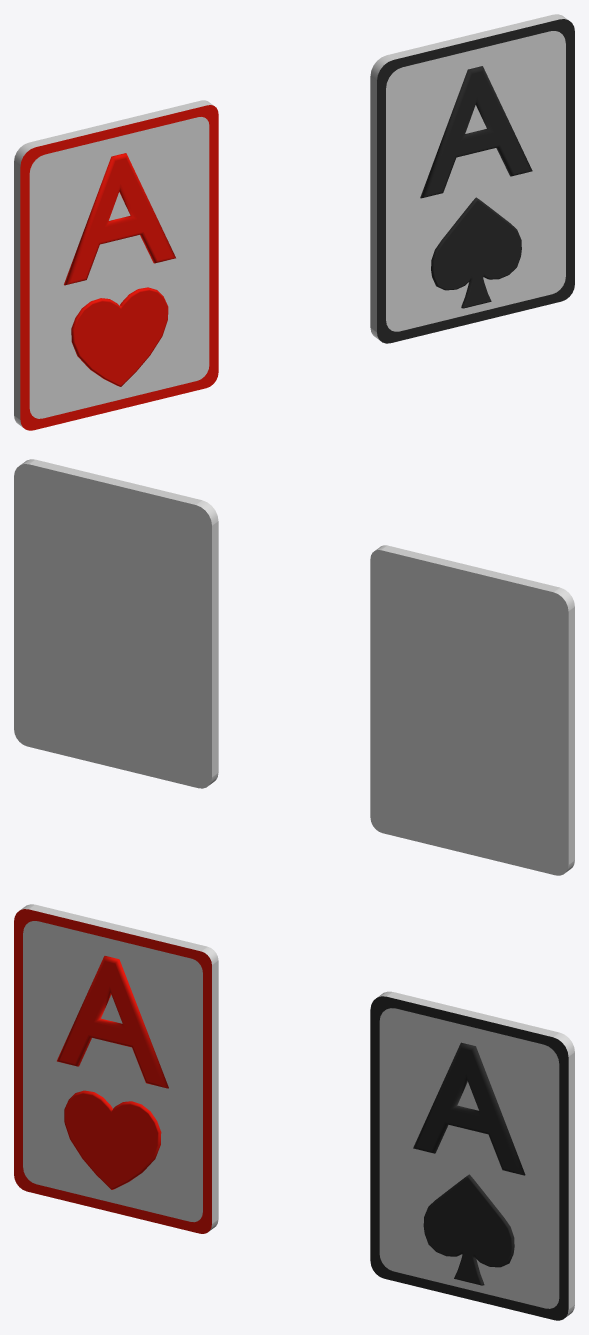
The model's file is Casino 1.fbx.
The picture shows the model from 3 angles, top to bottom: view 1: azimuth 30°, elevation 25°; view 2: azimuth 150°, elevation 25°; view 3: azimuth 330°, elevation 25°; orthographic projection.
Visible parts, largest first — view 1: Casino1, Casino2; view 2: Casino1, Casino2; view 3: Casino1, Casino2.
Part boxes in pixels (x1,y1,x2,y2): Casino1: (14, 100, 218, 430); Casino2: (370, 14, 574, 343); Casino1: (370, 545, 574, 875); Casino2: (14, 459, 218, 788); Casino1: (14, 904, 218, 1233); Casino2: (370, 991, 574, 1320).
Size of the model in its own units: 3.61 by 1.76 by 0.0973.
